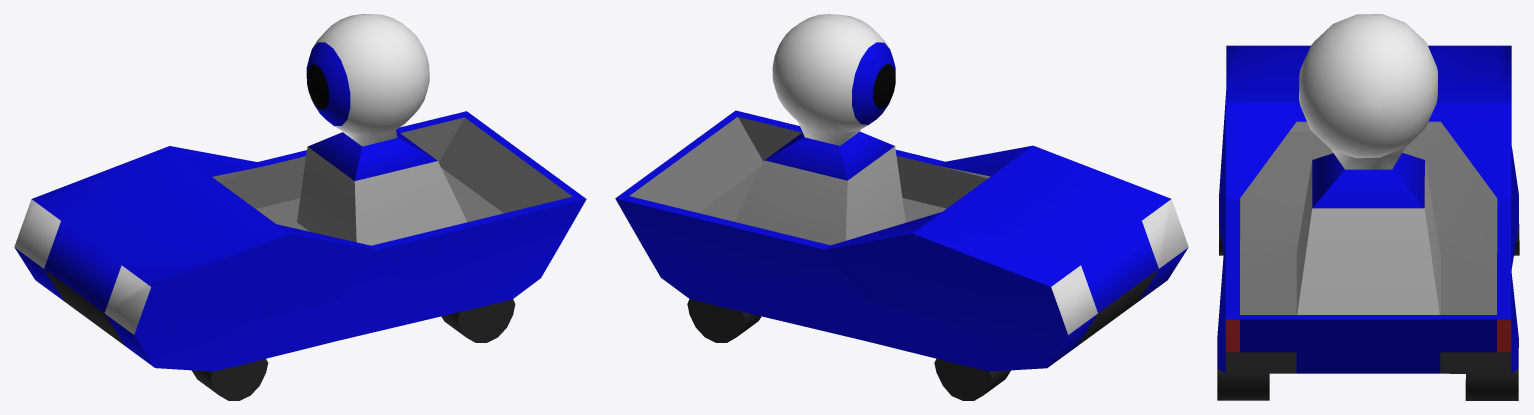
Rendered from WarExplorerBlue.fbx.
The picture shows the model from 3 angles, left to right: view 1: azimuth 30°, elevation 25°; view 2: azimuth 150°, elevation 25°; view 3: azimuth 270°, elevation 25°; orthographic projection. The views are drawn at different scales.
Parts seen in each view (by area): view 1: pSphere2; view 2: pSphere2; view 3: pSphere2.
Part boxes in pixels (left/top/right/bottom): pSphere2: left=14, top=14, right=586, bottom=400; pSphere2: left=615, top=14, right=1188, bottom=400; pSphere2: left=1217, top=14, right=1519, bottom=400.
Bounding box in the file's own units: 4.31 × 2.64 × 2.1.
